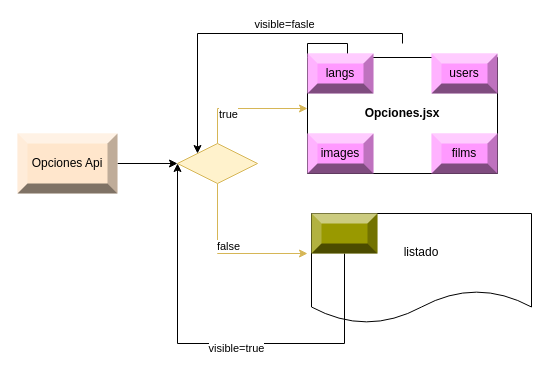
The diagram is 549 pixels wide and 371 high, and some of its shapes have lost their labels. Here are the shapes that lost their labels. From the top down, the centre of each, then its label:
(x=217, y=163): visible
(x=344, y=233): close
